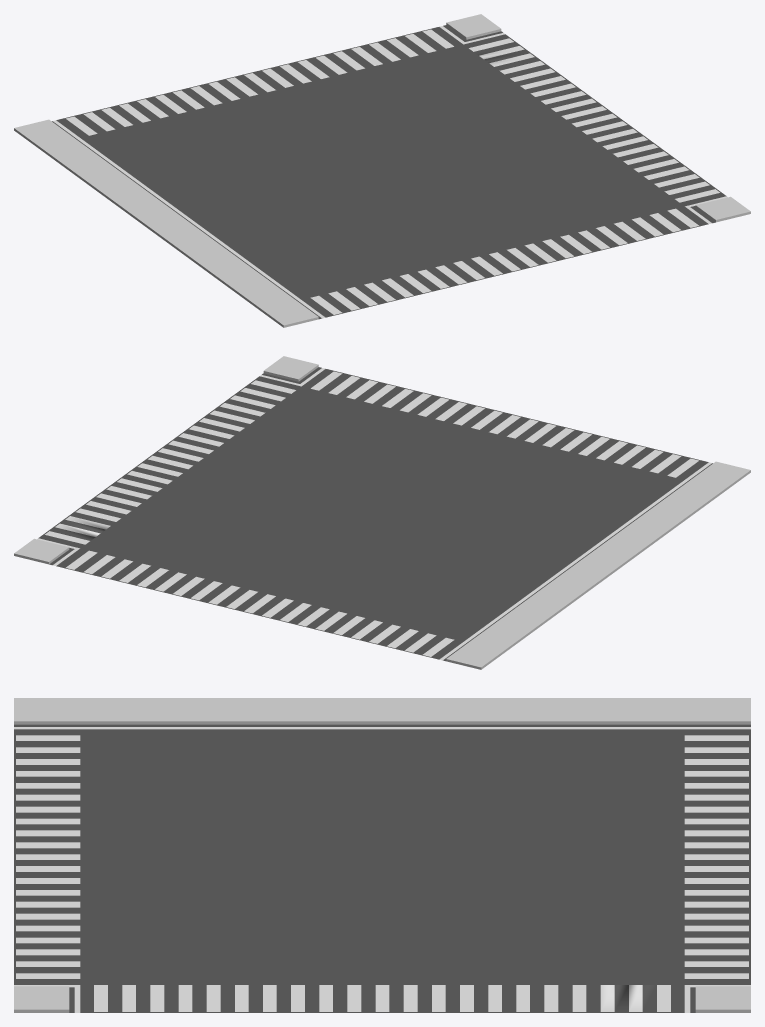
File: SPW_Urban_Road 4way_T_Intersection.gltf
3 renders of one model, top to bottom at view 1: azimuth 30°, elevation 25°; view 2: azimuth 150°, elevation 25°; view 3: azimuth 270°, elevation 25°, orthographic. The views are drawn at different scales.
Visible parts, largest first — view 1: SPW_Urban_Road_4way_T_Intersection; view 2: SPW_Urban_Road_4way_T_Intersection; view 3: SPW_Urban_Road_4way_T_Intersection.
Boxes of the visible parts, x1,y1,x2,y2 form: SPW_Urban_Road_4way_T_Intersection: [14, 14, 750, 327]; SPW_Urban_Road_4way_T_Intersection: [14, 356, 750, 669]; SPW_Urban_Road_4way_T_Intersection: [14, 698, 750, 1012].
Bounding box in the file's own units: 1575 × 7.87 × 1575.
Materials: 1 (1 with a texture image).
